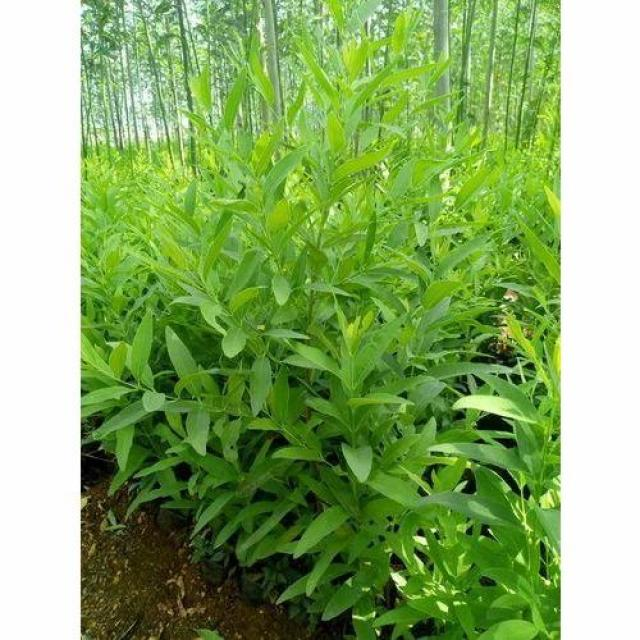Medicinal-Sandalwood: (89, 48, 563, 634)
